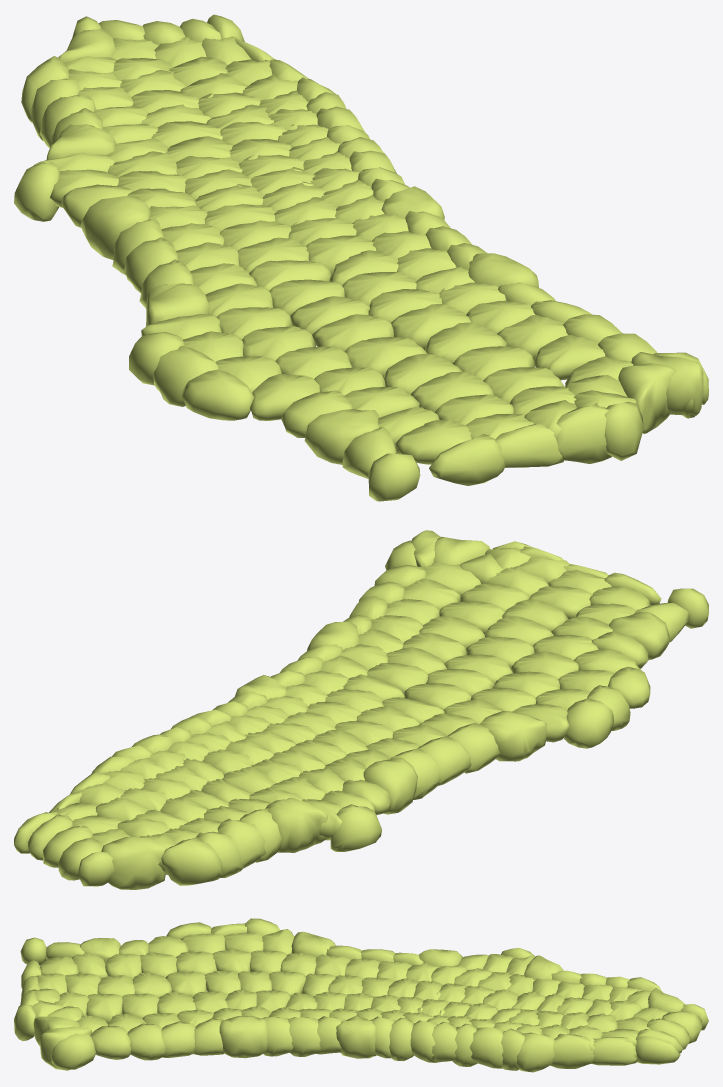
Rendered from Islands3.003_fog.fbx.
3 renders of one model, top to bottom at view 1: azimuth 30°, elevation 25°; view 2: azimuth 150°, elevation 25°; view 3: azimuth 270°, elevation 25°, orthographic. The views are drawn at different scales.
Parts seen in each view (by area): view 1: Island3.003_fog_cell.060, Island3.003_fog_cell.098, Island3.003_fog_cell.135, Island3.003_fog_cell.080, Island3.003_fog_cell.070, Island3.003_fog_cell.064, Island3.003_fog_cell.106, Island3.003_fog_cell.129, Island3.003_fog_cell.049, Island3.003_fog_cell.140, Island3.003_fog_cell.057, Island3.003_fog_cell.052 (+111 smaller); view 2: Island3.003_fog_cell.040, Island3.003_fog_cell.085, Island3.003_fog_cell.055, Island3.003_fog_cell.028, Island3.003_fog_cell.062, Island3.003_fog_cell.135, Island3.003_fog_cell.136, Island3.003_fog_cell.070, Island3.003_fog_cell.048, Island3.003_fog_cell.008, Island3.003_fog_cell.131, Island3.003_fog_cell.141 (+98 smaller); view 3: Island3.003_fog_cell.091, Island3.003_fog_cell.020, Island3.003_fog_cell.005, Island3.003_fog_cell.097, Island3.003_fog_cell.034, Island3.003_fog_cell.122, Island3.003_fog_cell.042, Island3.003_fog_cell.054, Island3.003_fog_cell.006, Island3.003_fog_cell.104, Island3.003_fog_cell.046, Island3.003_fog_cell.125 (+119 smaller).
Boxes of the visible parts, x1=… form: Island3.003_fog_cell.060: x1=182, y1=369, x2=254, y2=420; Island3.003_fog_cell.098: x1=429, y1=434, x2=505, y2=485; Island3.003_fog_cell.135: x1=80, y1=196, x2=150, y2=260; Island3.003_fog_cell.080: x1=555, y1=403, x2=611, y2=463; Island3.003_fog_cell.070: x1=304, y1=409, x2=378, y2=464; Island3.003_fog_cell.064: x1=618, y1=363, x2=675, y2=433; Island3.003_fog_cell.106: x1=495, y1=422, x2=563, y2=467; Island3.003_fog_cell.129: x1=631, y1=352, x2=703, y2=415; Island3.003_fog_cell.049: x1=153, y1=346, x2=218, y2=406; Island3.003_fog_cell.140: x1=250, y1=374, x2=319, y2=420; Island3.003_fog_cell.057: x1=395, y1=419, x2=471, y2=464; Island3.003_fog_cell.052: x1=368, y1=453, x2=420, y2=501; Island3.003_fog_cell.040: x1=101, y1=836, x2=166, y2=889; Island3.003_fog_cell.085: x1=480, y1=711, x2=546, y2=761; Island3.003_fog_cell.055: x1=265, y1=798, x2=327, y2=852; Island3.003_fog_cell.028: x1=161, y1=837, x2=222, y2=885; Island3.003_fog_cell.062: x1=564, y1=698, x2=613, y2=748; Island3.003_fog_cell.135: x1=363, y1=758, x2=417, y2=814; Island3.003_fog_cell.136: x1=330, y1=804, x2=381, y2=851; Island3.003_fog_cell.070: x1=609, y1=611, x2=669, y2=659; Island3.003_fog_cell.048: x1=418, y1=736, x2=471, y2=785; Island3.003_fog_cell.008: x1=447, y1=723, x2=500, y2=773; Island3.003_fog_cell.131: x1=217, y1=818, x2=265, y2=868; Island3.003_fog_cell.141: x1=466, y1=637, x2=534, y2=668; Island3.003_fog_cell.091: x1=219, y1=1015, x2=267, y2=1058; Island3.003_fog_cell.020: x1=336, y1=1015, x2=376, y2=1058; Island3.003_fog_cell.005: x1=51, y1=1033, x2=96, y2=1069; Island3.003_fog_cell.097: x1=550, y1=1033, x2=593, y2=1068; Island3.003_fog_cell.034: x1=516, y1=1032, x2=555, y2=1072; Island3.003_fog_cell.122: x1=469, y1=1027, x2=503, y2=1068; Island3.003_fog_cell.042: x1=591, y1=1036, x2=637, y2=1065; Island3.003_fog_cell.054: x1=127, y1=1023, x2=165, y2=1060; Island3.003_fog_cell.006: x1=90, y1=1026, x2=130, y2=1059; Island3.003_fog_cell.104: x1=288, y1=1017, x2=320, y2=1056; Island3.003_fog_cell.046: x1=161, y1=1021, x2=195, y2=1057; Island3.003_fog_cell.125: x1=635, y1=1036, x2=680, y2=1064.
Bounding box in the file's own units: 79.52 × 10.72 × 180.
